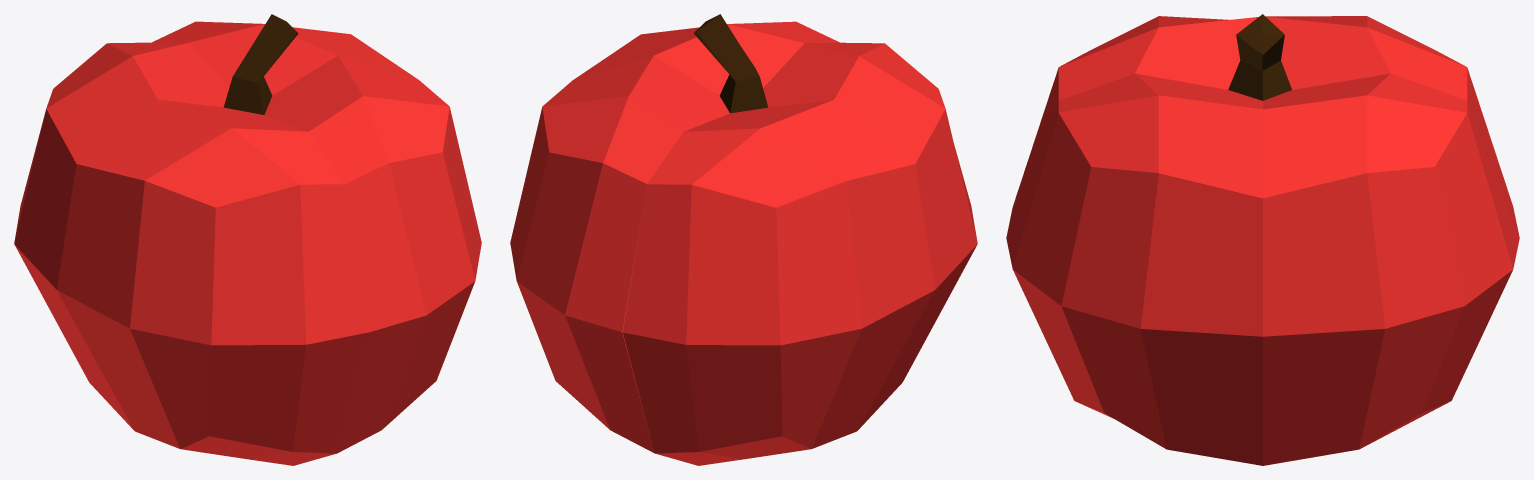
The model's file is HealingApple.fbx.
The picture shows the model from 3 angles, left to right: view 1: azimuth 30°, elevation 25°; view 2: azimuth 150°, elevation 25°; view 3: azimuth 270°, elevation 25°; orthographic projection. The views are drawn at different scales.
Parts seen in each view (by area): view 1: HealingApple; view 2: HealingApple; view 3: HealingApple.
Part boxes in pixels (left/top/right/bottom): HealingApple: left=14, top=14, right=481, bottom=465; HealingApple: left=510, top=14, right=977, bottom=465; HealingApple: left=1006, top=14, right=1519, bottom=465.
Size of the model in its own units: 27.98 by 30.12 by 30.8.
Materials: 1 (1 with a texture image).
